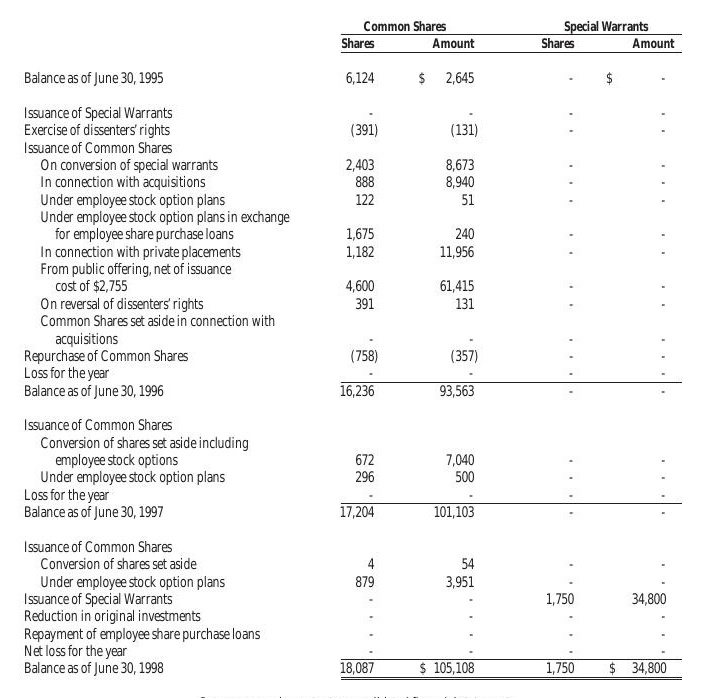table: (0, 0, 714, 698)
